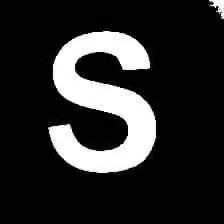LTR_S: (39, 22, 165, 177)
